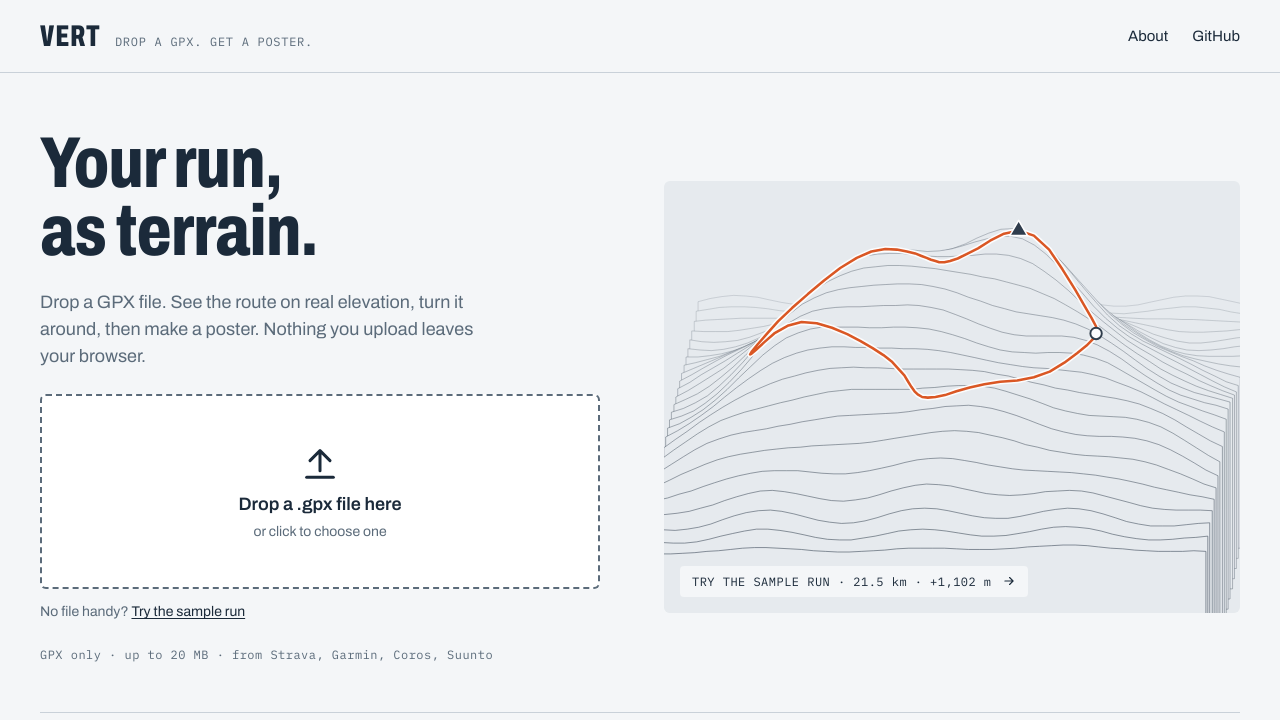
UploadState › says "Loading the sample run…" when the preview is chosen
Click the button "TRY THE SAMPLE RUN · 21.5 km · +1,102 m". click: coordinates (952, 396)
box: [664,180,1240,612]
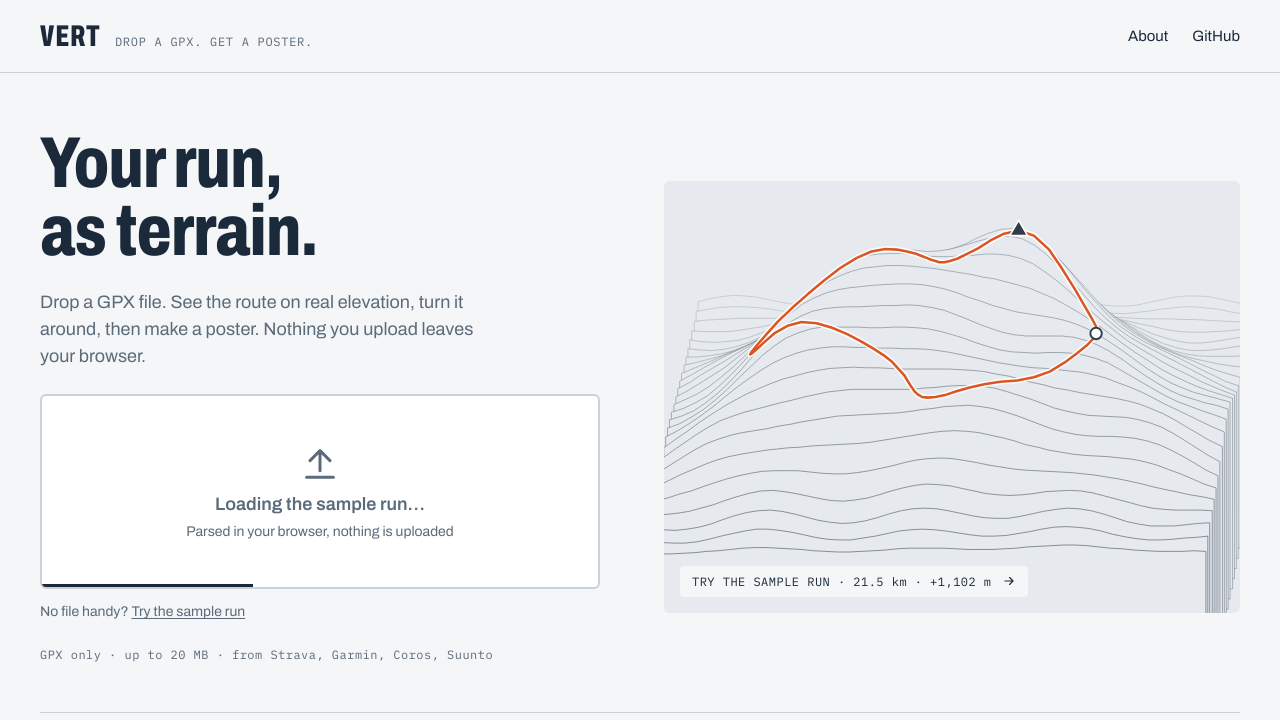
Check: the text "Loading the sample run…" is shown, box [215,494,425,514]
